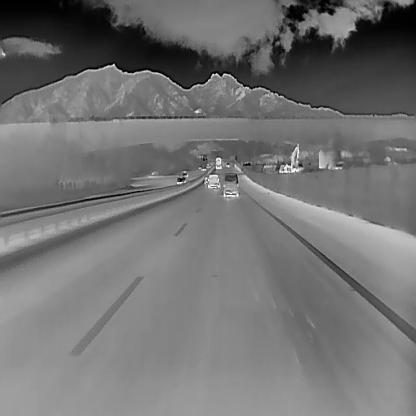car: (222, 170, 238, 197), (207, 174, 220, 188), (176, 176, 183, 184), (181, 171, 189, 178), (204, 174, 210, 183), (206, 161, 210, 168), (224, 161, 228, 168), (182, 177, 186, 183), (197, 163, 201, 169), (201, 165, 205, 171)
truck: (214, 155, 222, 170)
